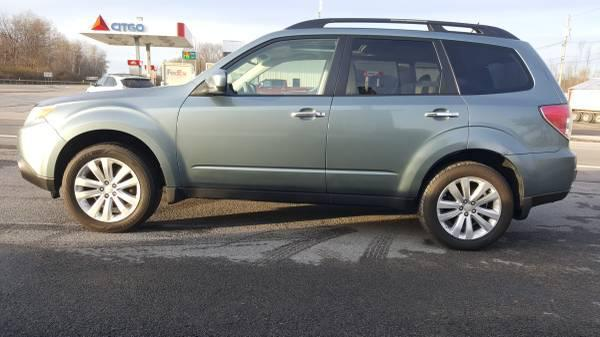Front_Bumper: (16, 118, 67, 197)
Front_Fender: (39, 80, 197, 200)
Front_Left_Door: (176, 93, 334, 204)
Front_Left_Window: (190, 34, 350, 101)
Left_Headlight: (23, 105, 55, 126)
Left_Taillight: (538, 104, 573, 138)
Rear_Bumper: (506, 140, 580, 216)
Rear_Fender: (441, 39, 569, 157)
Rear_Left_Door: (327, 93, 469, 212)
Rear_Left_Window: (334, 36, 461, 97)
Roof: (190, 16, 559, 90)
Wheel: (61, 141, 159, 233), (421, 164, 516, 252)
